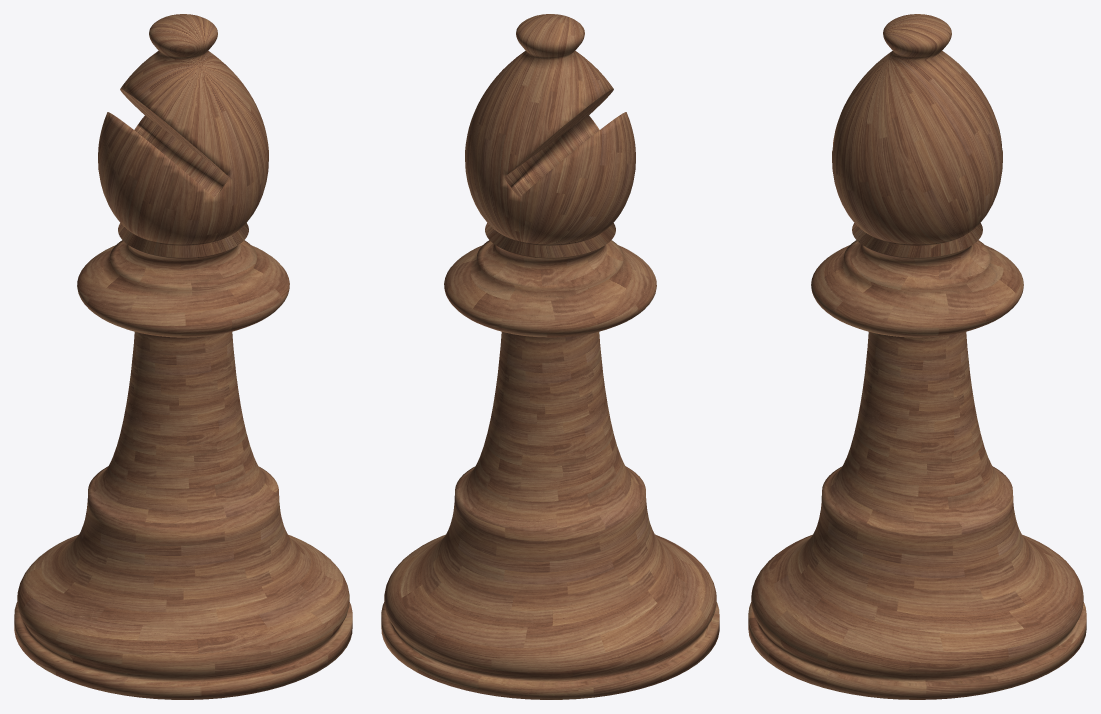
Rendered from model_bishop.glb.
3 renders of one model, left to right at view 1: azimuth 30°, elevation 25°; view 2: azimuth 150°, elevation 25°; view 3: azimuth 270°, elevation 25°, orthographic.
Visible parts, largest first — view 1: BISHOP; view 2: BISHOP; view 3: BISHOP.
Part boxes in pixels (x1,y1,x2,y2): BISHOP: (14,14,352,699); BISHOP: (381,14,719,699); BISHOP: (748,14,1086,699).
Bounding box in the file's own units: 0.8819 × 1.75 × 0.8819.
Materials: 1 (1 with a texture image).
